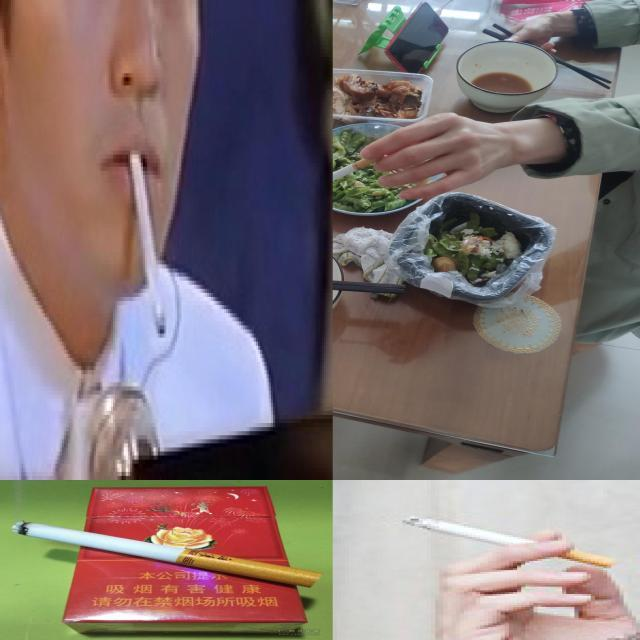smoking: (11, 520, 324, 588), (399, 514, 616, 568), (128, 134, 166, 339), (333, 154, 386, 194)
